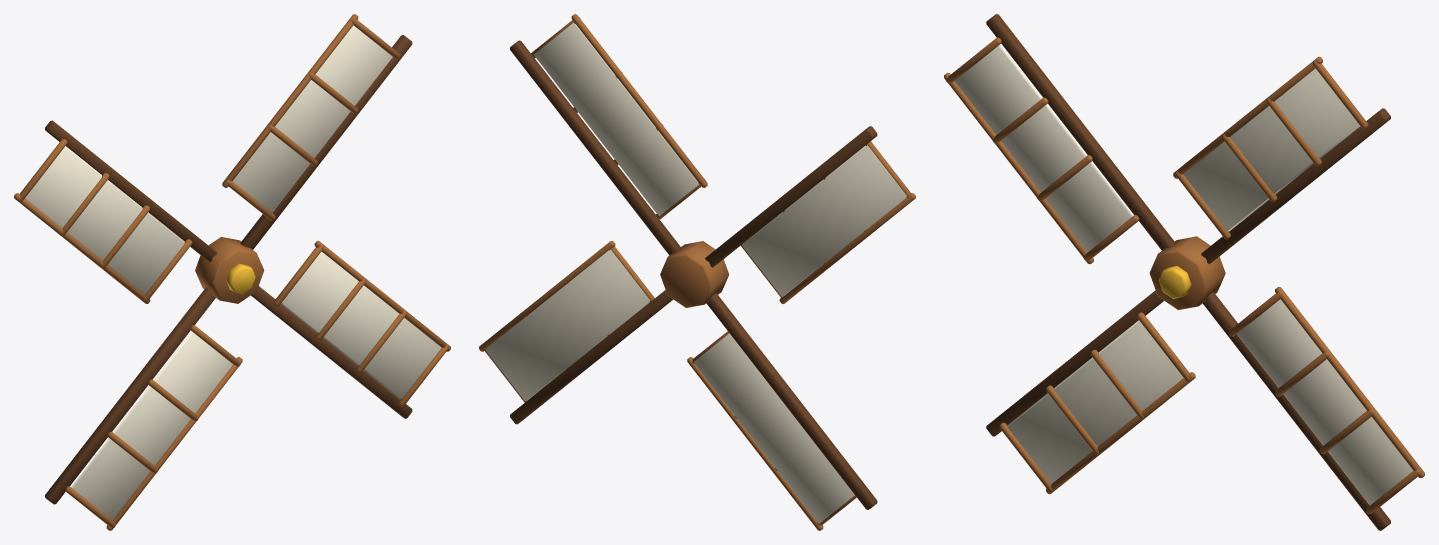
File: X_MedWindmillSails.fbx
The picture shows the model from 3 angles, left to right: view 1: azimuth 30°, elevation 25°; view 2: azimuth 150°, elevation 25°; view 3: azimuth 330°, elevation 25°; orthographic projection. The views are drawn at different scales.
Visible parts, largest first — view 1: M_WindmillSails; view 2: M_WindmillSails; view 3: M_WindmillSails.
Boxes of the visible parts, x1=… form: M_WindmillSails: x1=14, y1=14, x2=450, y2=530; M_WindmillSails: x1=479, y1=14, x2=915, y2=530; M_WindmillSails: x1=944, y1=14, x2=1424, y2=530.
Size of the model in its own units: 5.32 by 5.32 by 0.5.
Materials: 1 (1 with a texture image).
